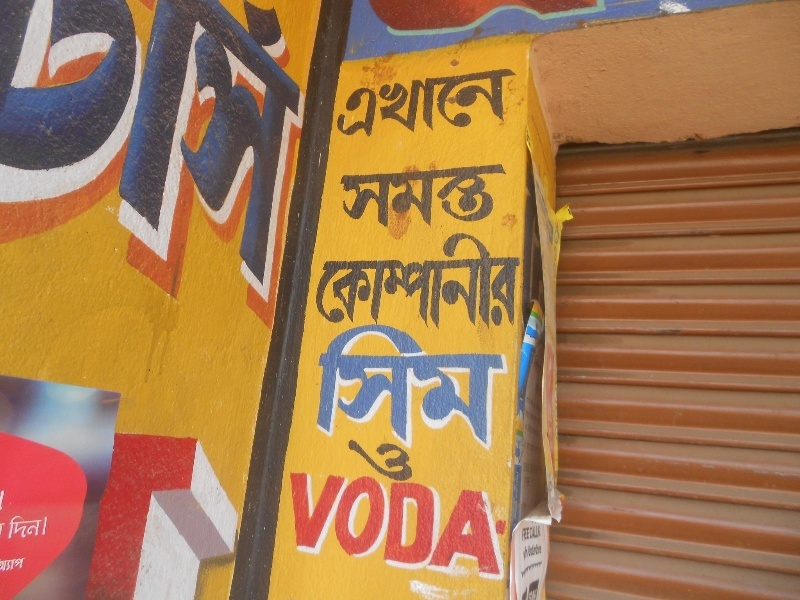text: (17, 1, 32, 309), (33, 1, 48, 309), (49, 1, 64, 309), (65, 1, 80, 309), (81, 1, 96, 309), (97, 1, 112, 309), (113, 1, 128, 309), (129, 1, 144, 309), (145, 1, 160, 309), (161, 1, 176, 309), (177, 1, 192, 309), (193, 1, 208, 309), (209, 1, 224, 309), (225, 1, 240, 309), (241, 1, 256, 309), (257, 1, 272, 309), (273, 1, 288, 309), (289, 1, 304, 309), (305, 1, 319, 309), (529, 92, 544, 367), (545, 92, 560, 367), (3, 1, 16, 309), (561, 92, 574, 367), (129, 417, 144, 596), (145, 417, 160, 596), (161, 417, 176, 596), (177, 417, 192, 596), (193, 417, 208, 596), (209, 417, 224, 596), (114, 417, 128, 596), (225, 417, 239, 596), (529, 360, 544, 500), (321, 323, 336, 450), (337, 323, 352, 450), (353, 323, 368, 450), (369, 323, 384, 450), (385, 323, 400, 450), (401, 323, 416, 450), (417, 323, 432, 450), (433, 323, 448, 450), (449, 323, 464, 450), (465, 323, 480, 450), (481, 323, 496, 450), (305, 469, 320, 581), (321, 469, 336, 581), (337, 469, 352, 581), (353, 469, 368, 581), (369, 469, 384, 581), (385, 469, 400, 581), (401, 469, 416, 581), (417, 469, 432, 581), (433, 469, 448, 581), (449, 469, 464, 581), (465, 469, 480, 581), (481, 469, 496, 581), (290, 469, 304, 581), (337, 231, 352, 332), (353, 231, 368, 332), (369, 231, 384, 332), (385, 231, 400, 332), (401, 231, 416, 332), (417, 231, 432, 332), (433, 231, 448, 332), (449, 231, 464, 332), (465, 231, 480, 332), (481, 231, 496, 332), (497, 231, 512, 332), (497, 323, 508, 450), (323, 231, 336, 332), (497, 469, 508, 581), (353, 67, 368, 141), (369, 67, 384, 141), (385, 67, 400, 141), (401, 67, 416, 141), (417, 67, 432, 141), (433, 67, 448, 141), (449, 67, 464, 141), (465, 67, 480, 141), (481, 67, 496, 141), (497, 67, 512, 141), (1, 483, 16, 552), (513, 231, 523, 332), (353, 161, 368, 228), (369, 161, 384, 228), (385, 161, 400, 228), (401, 161, 416, 228), (417, 161, 432, 228), (433, 161, 448, 228), (449, 161, 464, 228), (465, 161, 480, 228), (481, 161, 496, 228), (529, 524, 545, 579), (339, 161, 352, 228), (522, 360, 528, 500), (497, 161, 509, 228), (342, 67, 352, 141), (545, 360, 550, 500), (315, 323, 320, 450), (353, 440, 368, 481), (369, 440, 384, 481), (385, 440, 400, 481), (526, 92, 528, 367), (401, 440, 414, 481), (529, 566, 544, 600), (513, 67, 519, 141), (515, 566, 528, 600), (520, 524, 528, 579), (33, 516, 49, 538), (17, 516, 32, 538), (1, 555, 16, 574), (17, 555, 28, 574), (9, 516, 16, 538), (349, 440, 352, 481), (545, 566, 548, 600)
